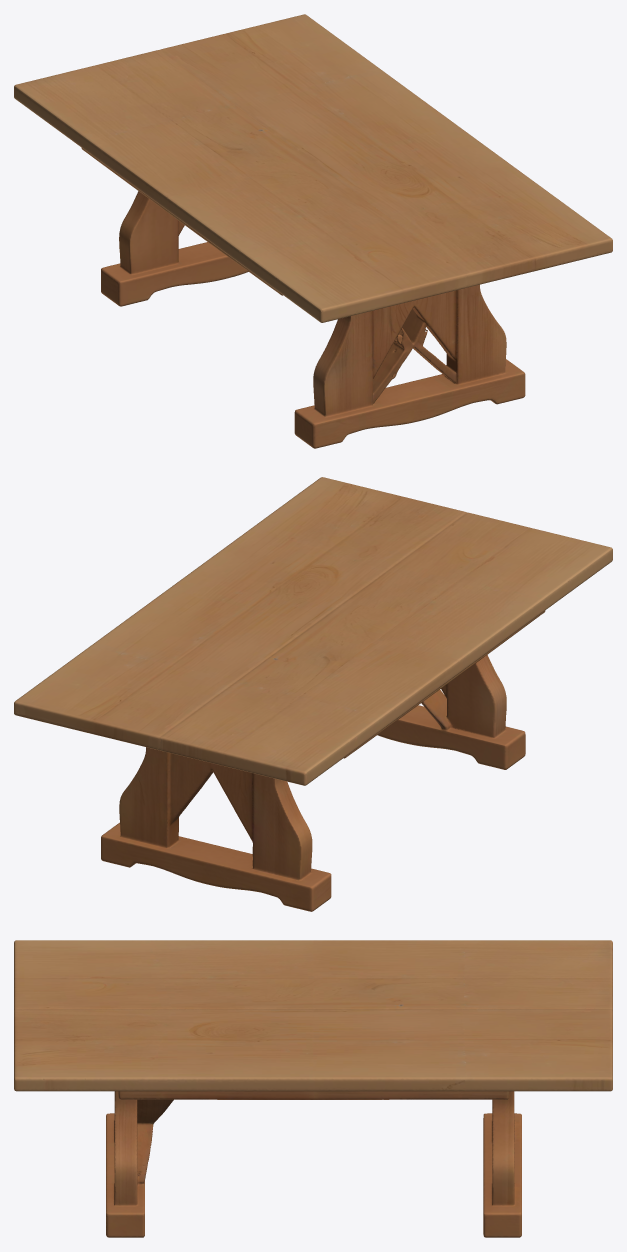
File: detailed_realistic_model_grandoaktable_06.glb
3 views of the same model, one above another, from view 1: azimuth 30°, elevation 25°; view 2: azimuth 150°, elevation 25°; view 3: azimuth 270°, elevation 25° (orthographic). The views are drawn at different scales.
Parts seen in each view (by area): view 1: tripo_node_d977c4f9-3182-4f22-8bdb-dc40fd0a78fb; view 2: tripo_node_d977c4f9-3182-4f22-8bdb-dc40fd0a78fb; view 3: tripo_node_d977c4f9-3182-4f22-8bdb-dc40fd0a78fb.
Part boxes in pixels (left/top/right/bottom): tripo_node_d977c4f9-3182-4f22-8bdb-dc40fd0a78fb: left=14, top=14, right=612, bottom=448; tripo_node_d977c4f9-3182-4f22-8bdb-dc40fd0a78fb: left=14, top=477, right=612, bottom=911; tripo_node_d977c4f9-3182-4f22-8bdb-dc40fd0a78fb: left=14, top=940, right=612, bottom=1237.
Bounding box in the file's own units: 0.5482 × 0.3304 × 1.
Materials: 1 (1 with a texture image).
